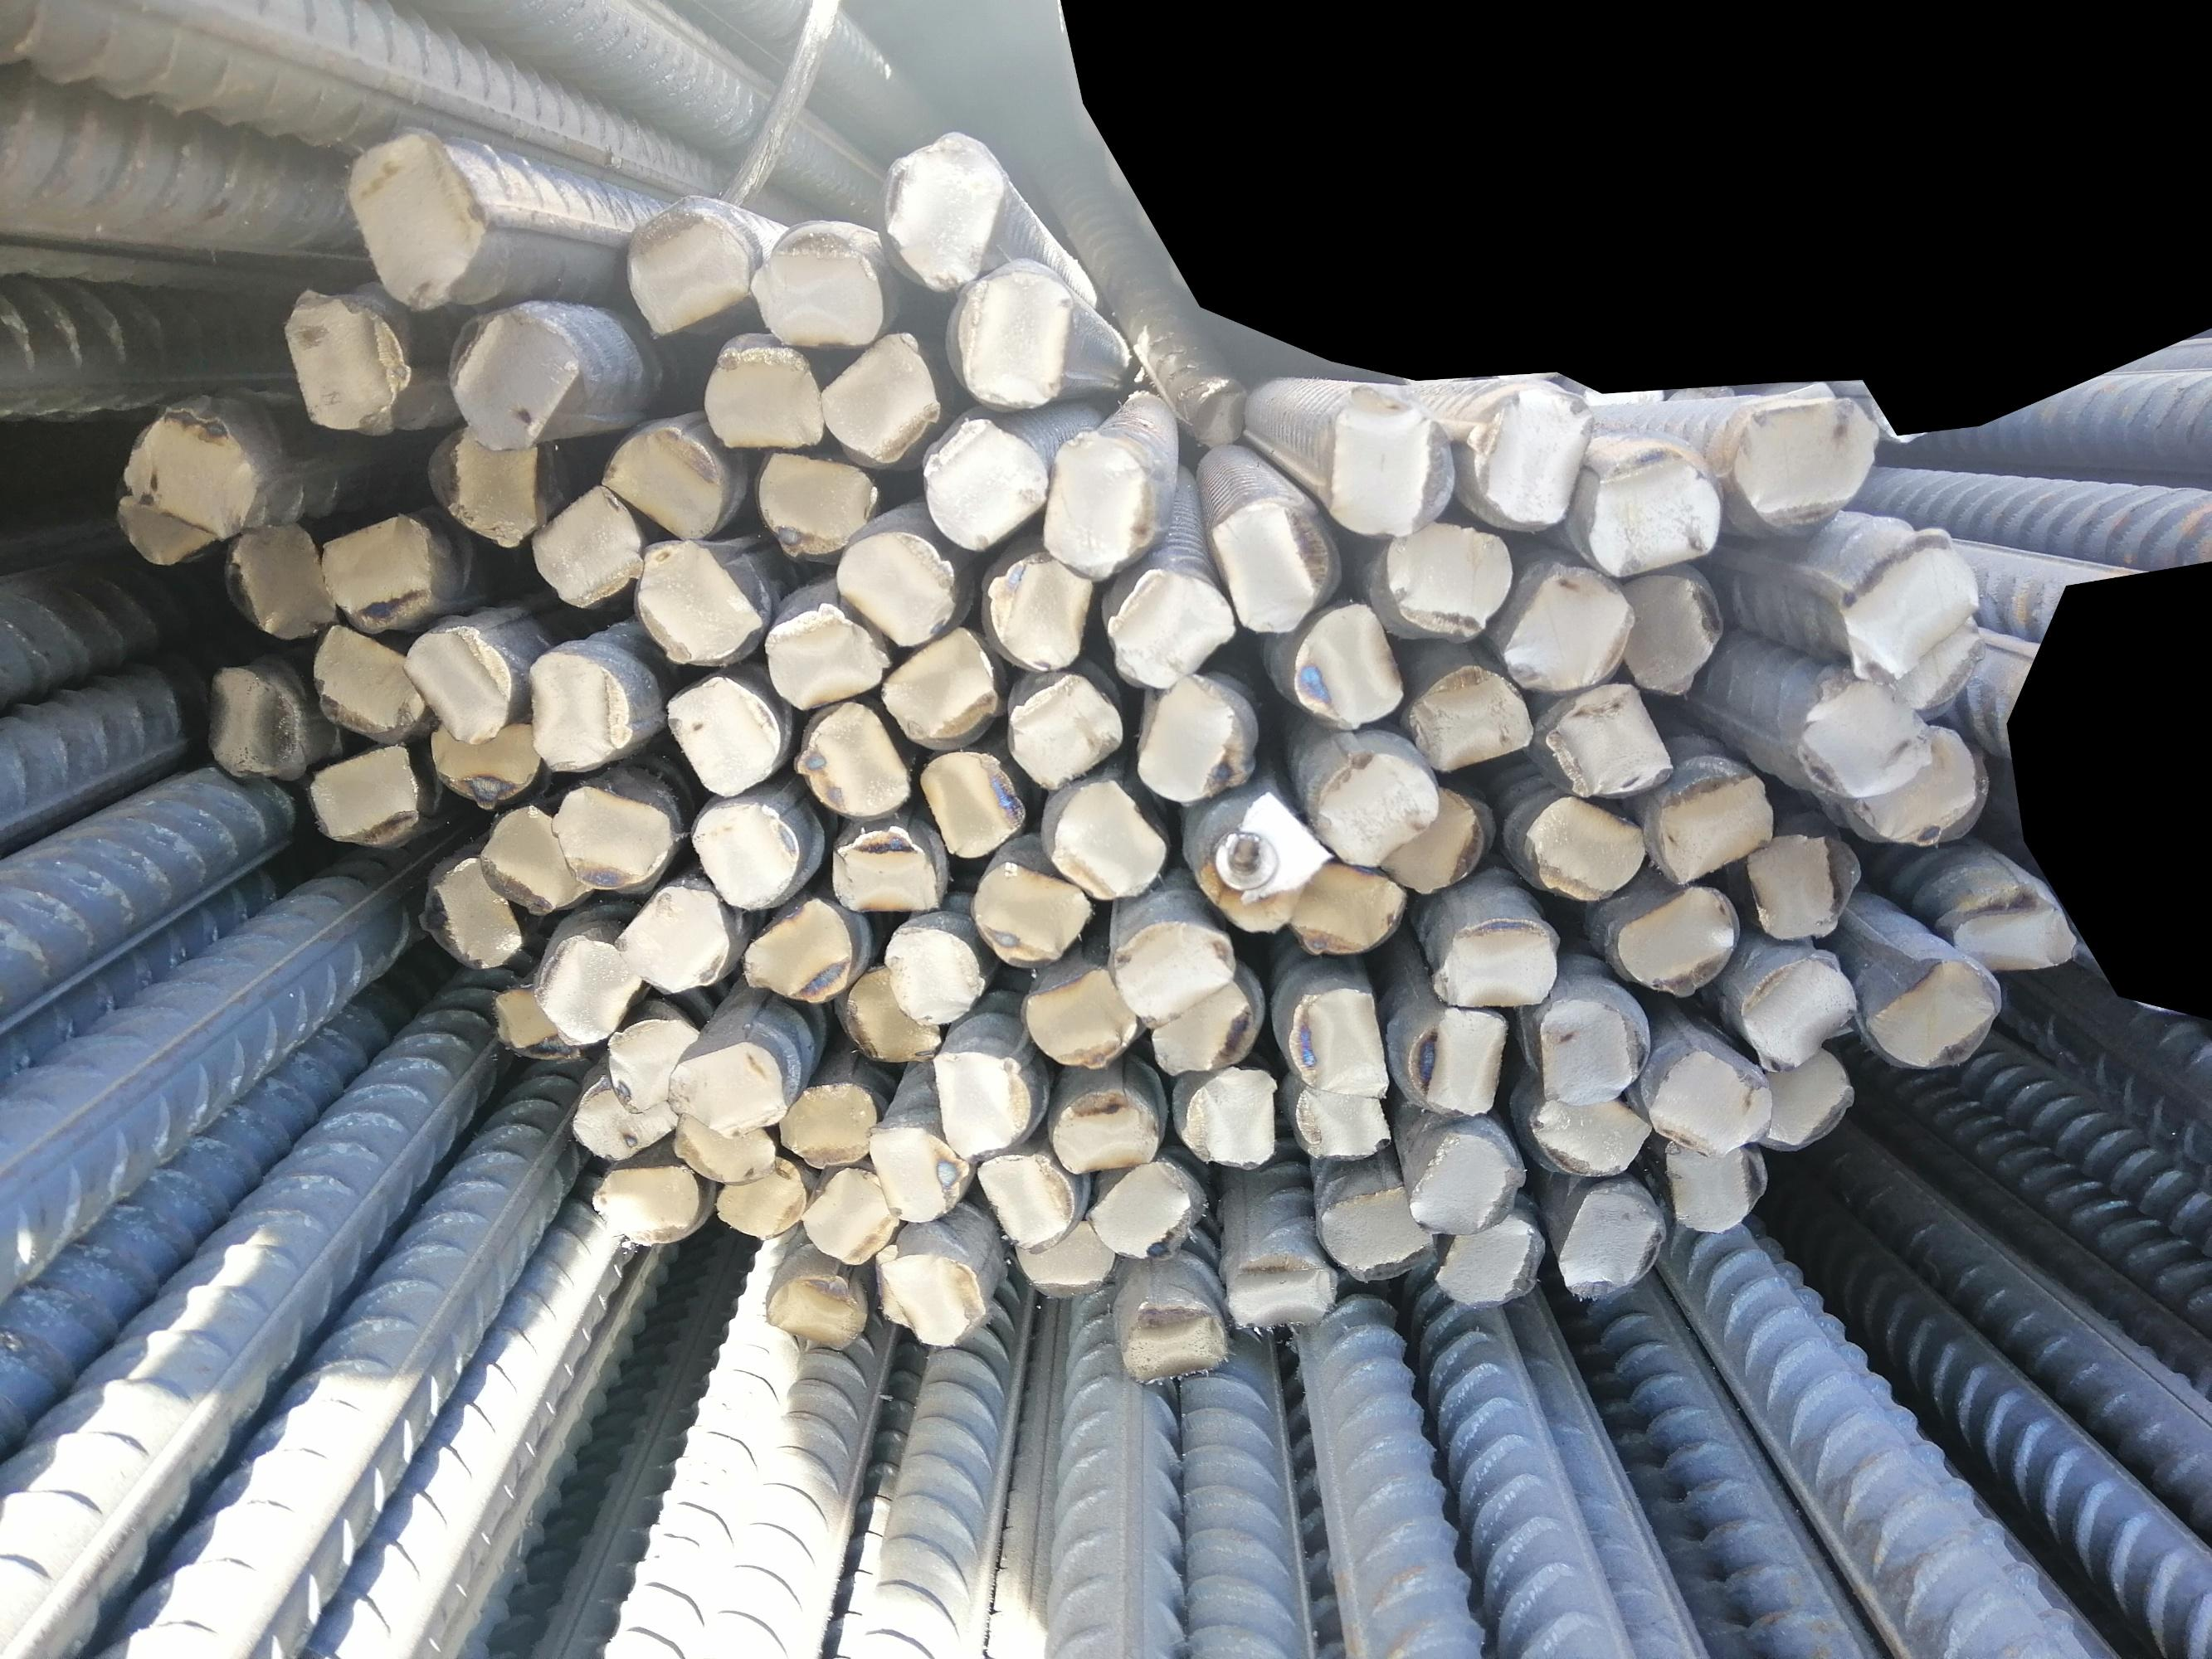bar: (340, 127, 492, 317), (110, 397, 258, 570), (1827, 525, 1978, 687), (1724, 392, 1884, 538), (1307, 382, 1455, 535), (938, 251, 1074, 415), (277, 282, 417, 434), (446, 300, 584, 453), (882, 127, 1009, 293), (1576, 439, 1724, 580), (612, 199, 757, 338), (1203, 490, 1335, 638), (1461, 380, 1591, 530), (1497, 558, 1635, 694), (814, 322, 943, 467), (1792, 667, 1935, 796), (626, 537, 767, 666), (1037, 422, 1152, 579), (919, 415, 1049, 549), (1041, 770, 1171, 903), (594, 418, 730, 545), (1858, 953, 2003, 1070), (1133, 674, 1262, 805), (1307, 742, 1440, 870), (1647, 760, 1774, 892), (1858, 723, 1987, 852), (1103, 563, 1234, 690), (1377, 518, 1515, 638), (746, 235, 889, 350), (826, 525, 959, 648), (1537, 680, 1672, 800), (1184, 805, 1306, 936), (518, 645, 638, 777), (1605, 882, 1738, 1002), (1616, 563, 1733, 699), (1515, 789, 1647, 908), (875, 622, 1002, 744), (662, 667, 783, 796), (790, 695, 912, 821), (1285, 603, 1405, 730), (429, 418, 547, 547), (1004, 666, 1130, 786), (1103, 918, 1238, 1030), (303, 622, 427, 742), (760, 598, 891, 711), (218, 521, 340, 641), (472, 796, 593, 918), (1743, 826, 1867, 945), (978, 549, 1095, 674), (1407, 664, 1536, 777), (1644, 1047, 1776, 1157), (401, 620, 516, 746), (296, 739, 427, 849), (1079, 1155, 1213, 1262), (969, 854, 1093, 969), (1386, 1002, 1510, 1117), (751, 450, 877, 563), (614, 875, 730, 995), (528, 483, 640, 608), (699, 342, 826, 451), (1740, 950, 1856, 1068), (530, 924, 641, 1047), (1944, 878, 2085, 976), (547, 781, 675, 889), (321, 511, 434, 631), (1426, 915, 1565, 1012), (737, 894, 861, 1004), (1557, 1182, 1666, 1305), (692, 796, 805, 915), (413, 847, 521, 971), (1023, 960, 1138, 1072), (915, 749, 1030, 861), (1279, 985, 1391, 1100), (1529, 999, 1647, 1107), (1279, 856, 1403, 958), (195, 657, 302, 775), (1891, 605, 1999, 720), (1318, 1182, 1435, 1288), (1407, 1131, 1523, 1237), (1382, 782, 1487, 899), (662, 1037, 784, 1136), (1523, 1089, 1654, 1182), (1435, 1202, 1546, 1310), (1166, 1061, 1281, 1166), (424, 713, 544, 812), (880, 1244, 988, 1354), (1145, 978, 1262, 1079), (859, 1117, 967, 1225), (926, 1044, 1030, 1155), (824, 823, 950, 915), (973, 1148, 1077, 1258), (1754, 1040, 1855, 1154), (1049, 1084, 1170, 1178), (1659, 1131, 1771, 1232), (1109, 1297, 1232, 1387), (882, 918, 983, 1028), (580, 1157, 701, 1248), (804, 1161, 903, 1267), (1224, 1248, 1340, 1337), (605, 1009, 702, 1114), (837, 965, 941, 1063), (479, 976, 586, 1072), (567, 1075, 676, 1162), (774, 1077, 877, 1169), (758, 1269, 866, 1356), (1286, 1082, 1398, 1166), (1016, 1213, 1114, 1302), (669, 1105, 774, 1187), (713, 1154, 805, 1239), (1178, 369, 1253, 451)
